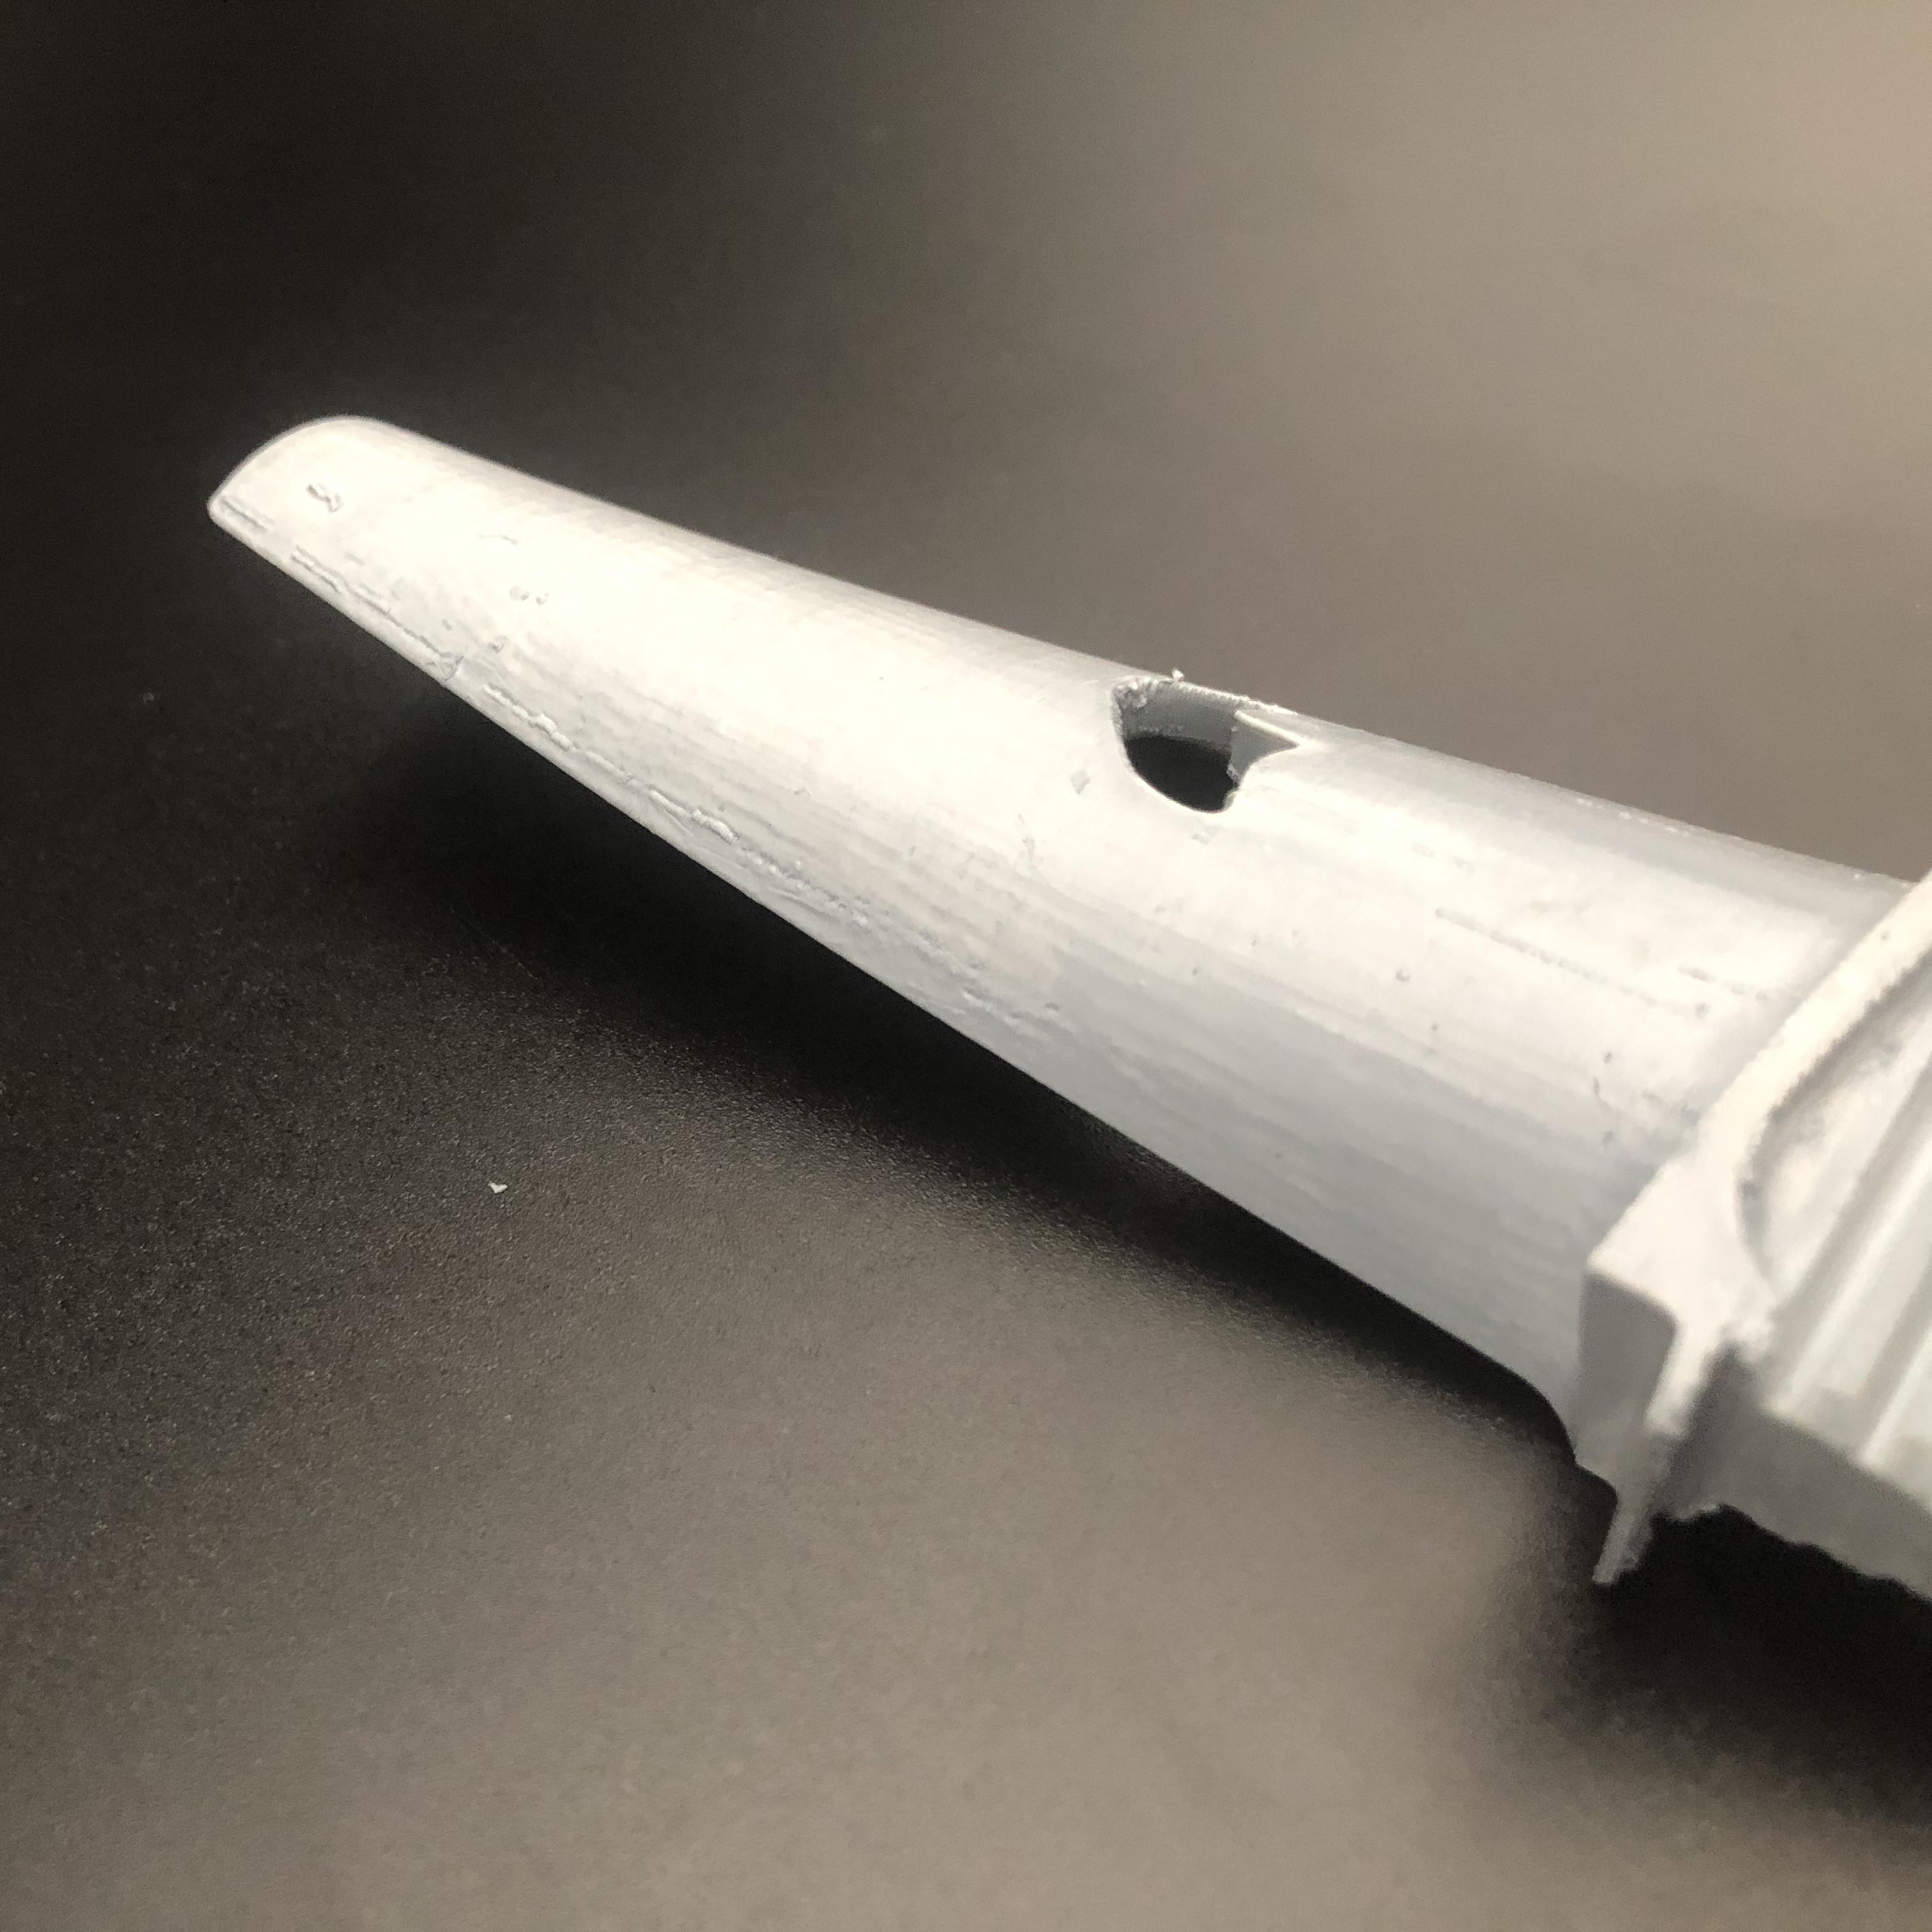breakdown: (1090, 665, 1311, 828)
